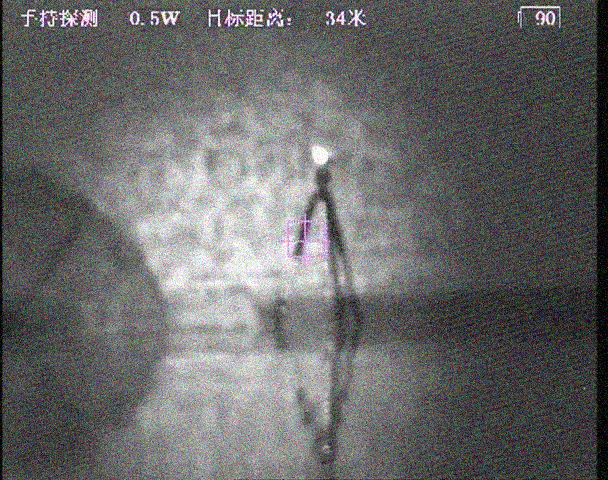my: (309, 142, 330, 165)
